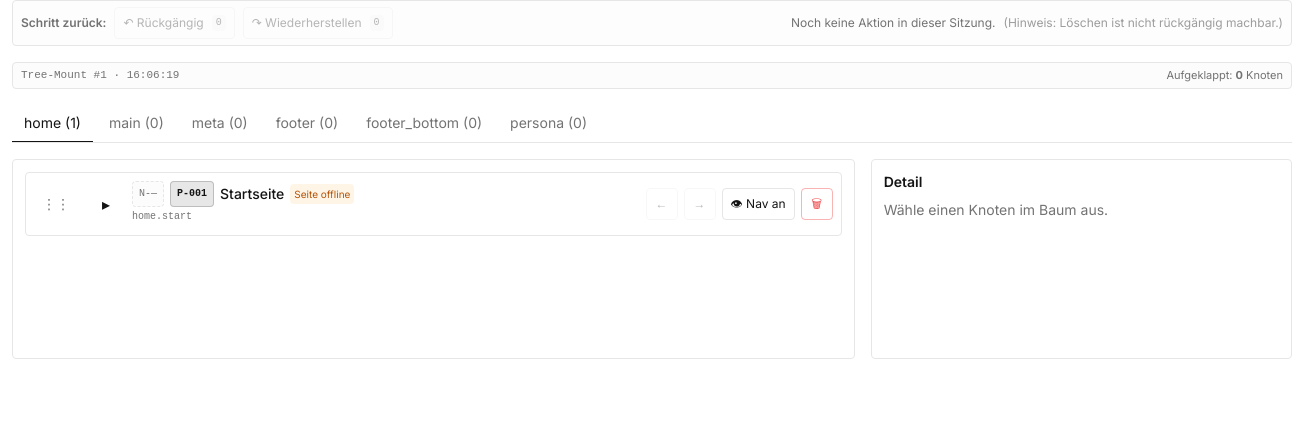
Scenario: NavigationTreeEditor — aufgeklappter Zustand bleibt beim Bearbeiten erhalten › hält Startseite aufgeklappt, nachdem ein Block ausgeblendet wurde
Expected: the button titled "home.start" is shown, [128,178,640,228]
Click the button named "Aufklappen" at coordinates (106, 204), box [90,188,122,220]
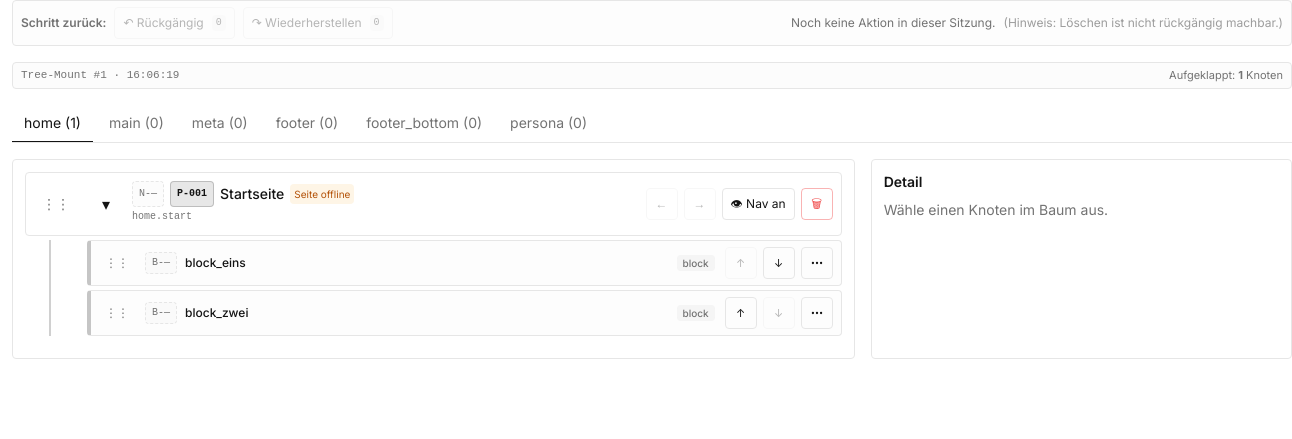
Result: the text "block_eins" is shown at [185,255,246,270]
Result: the text "block_zwei" is shown at [185,305,248,320]
Result: the button "⋮⋮ B-— block_eins block ↑ ↓" is shown at [87,240,842,286]
Click the 1st button titled "Weitere Aktionen" at coordinates (817, 262), box [801,246,833,278]
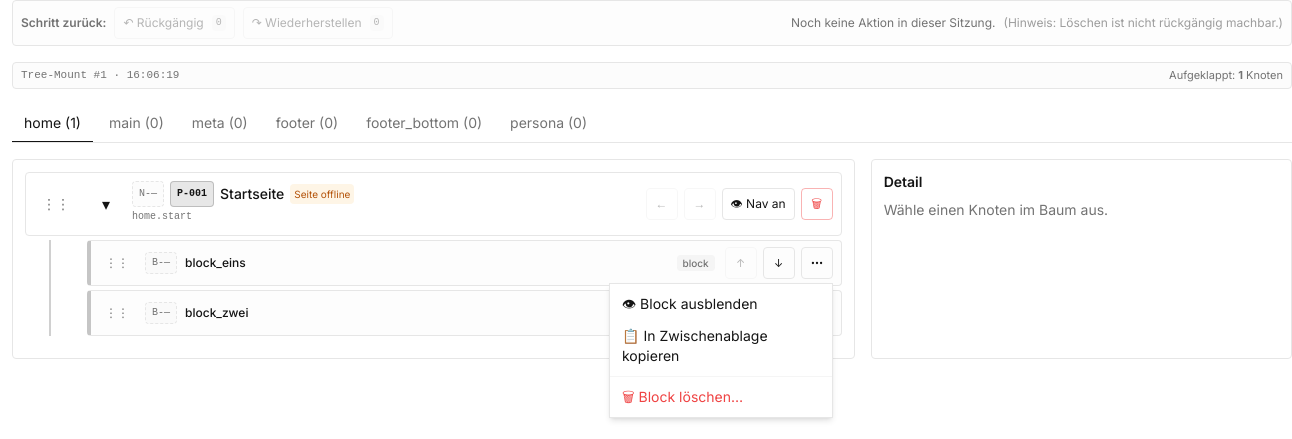
Click the menu item "👁 Block ausblenden" at coordinates (690, 304), box [622,295,758,312]
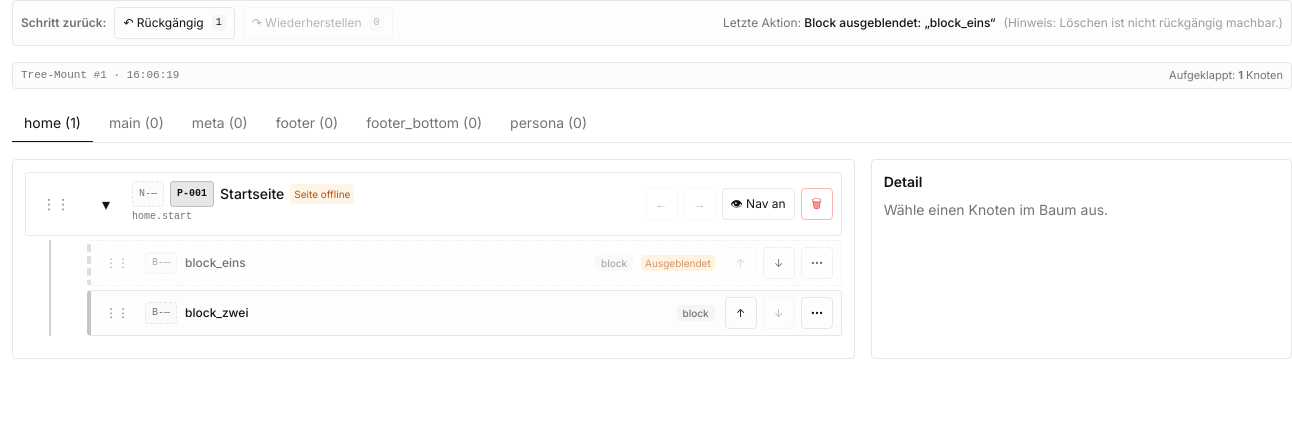
Result: the text "block_eins" is shown at [185,255,246,270]
Result: the text "block_zwei" is shown at [185,305,248,320]
Result: the text "Block ausgeblendet: „block_eins“" is shown at [804,15,996,30]
